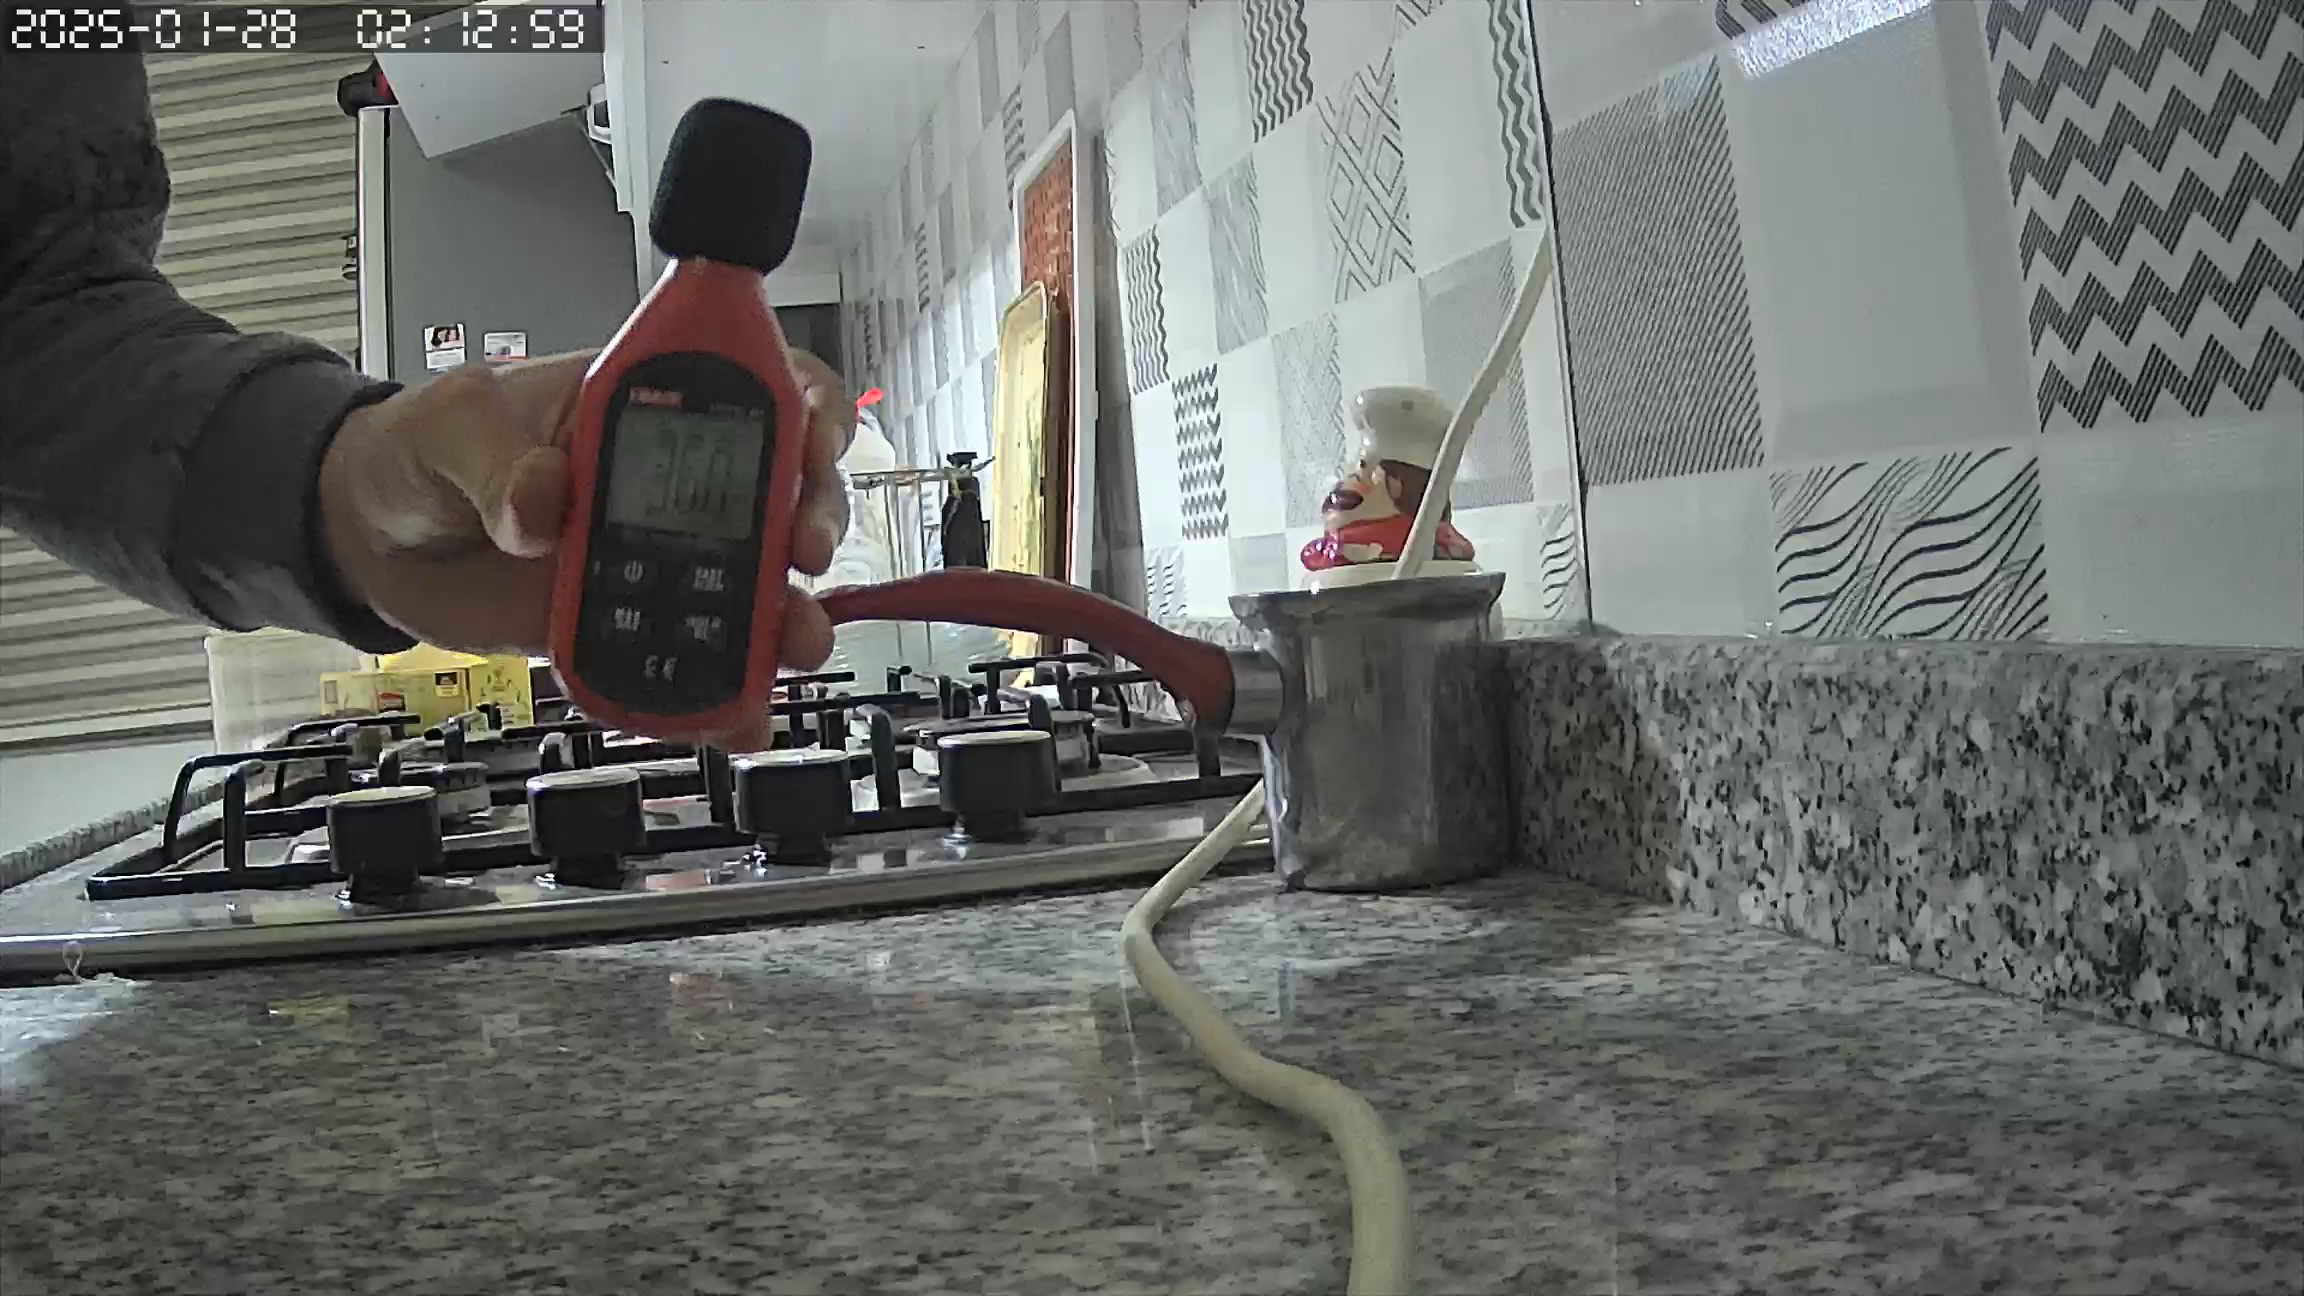screen: (608, 408, 764, 543)
